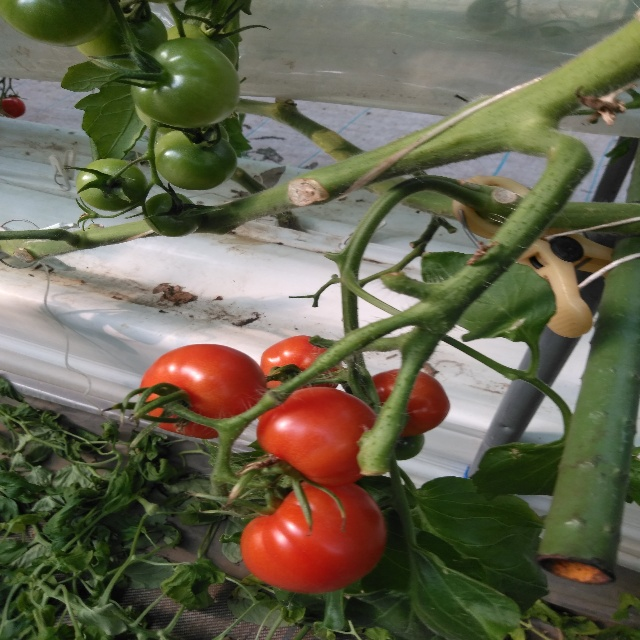l_fully_ripened: (241, 480, 388, 596), (138, 344, 268, 439), (257, 386, 378, 487), (368, 367, 451, 438), (259, 335, 342, 395)
l_green: (130, 36, 240, 129), (75, 9, 167, 71), (0, 0, 114, 47), (153, 128, 238, 191), (75, 158, 147, 212), (167, 23, 239, 69), (142, 192, 202, 238), (386, 434, 425, 461)
